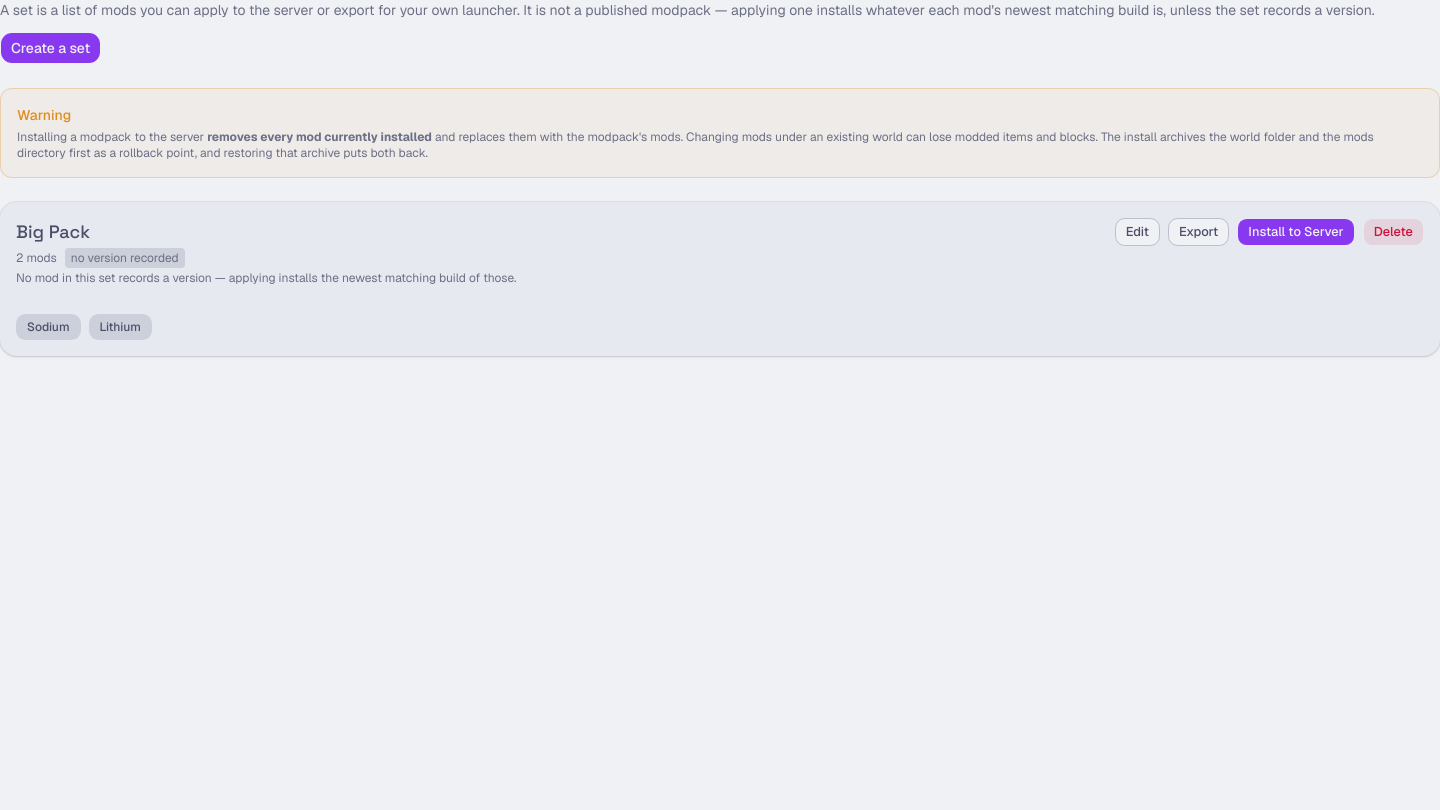
Test case: the report opens for an apply whose only news is the skips › opens on a clean 200 with skips and nothing else
The width and height of the screenshot is (1440, 810).
Expected: the text "Big Pack" is shown, [16,220,90,243]
What coordinates should you click on to do the following:
click the button "Install to Server"
I would click on:
 (1296, 232)
Its box is [1237,218,1355,246].
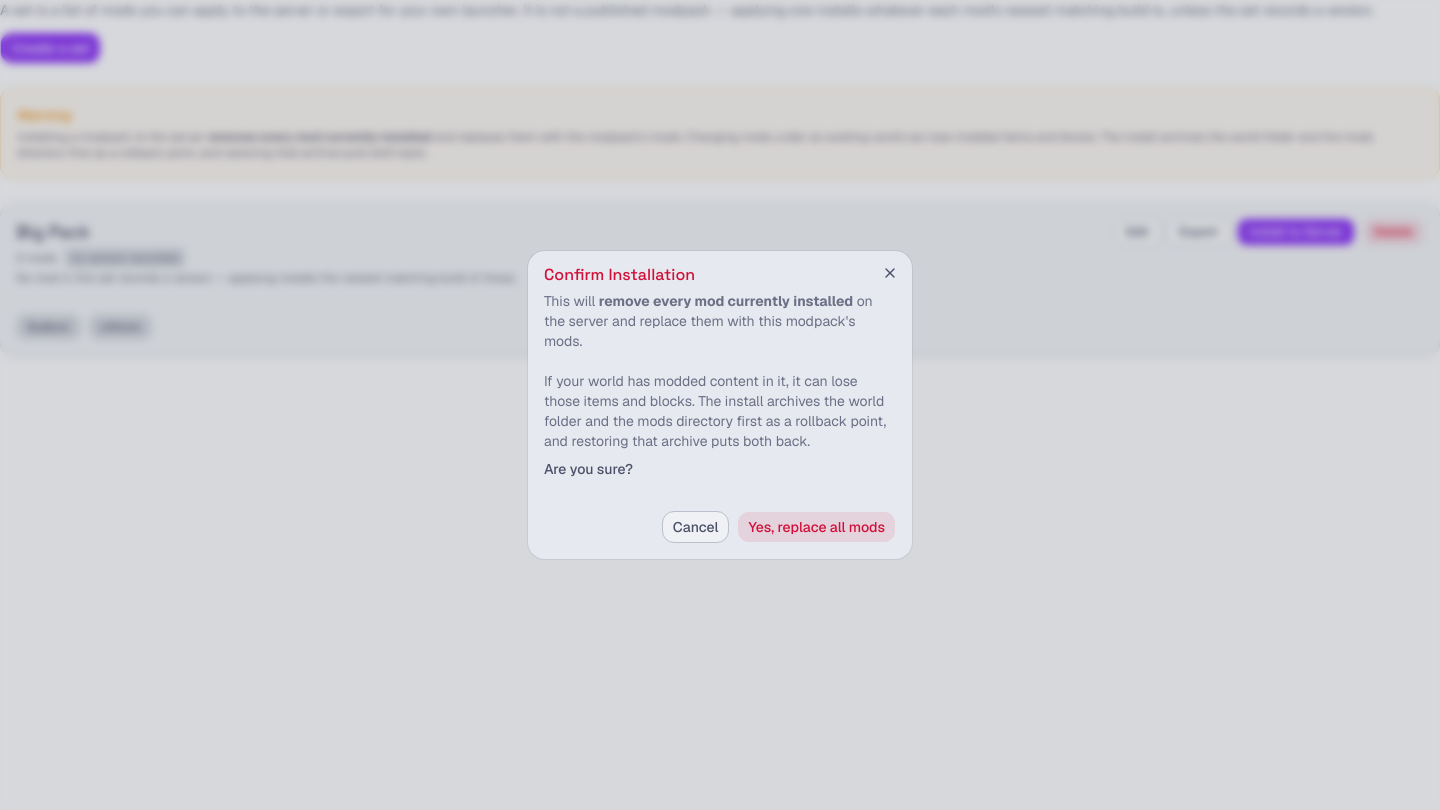
Expected: the heading "Confirm Installation" is shown, [544,264,695,285]
What coordinates should you click on to do the following:
click the button "Yes, replace all mods"
I would click on:
 (817, 527)
Its box is [737,511,896,543].
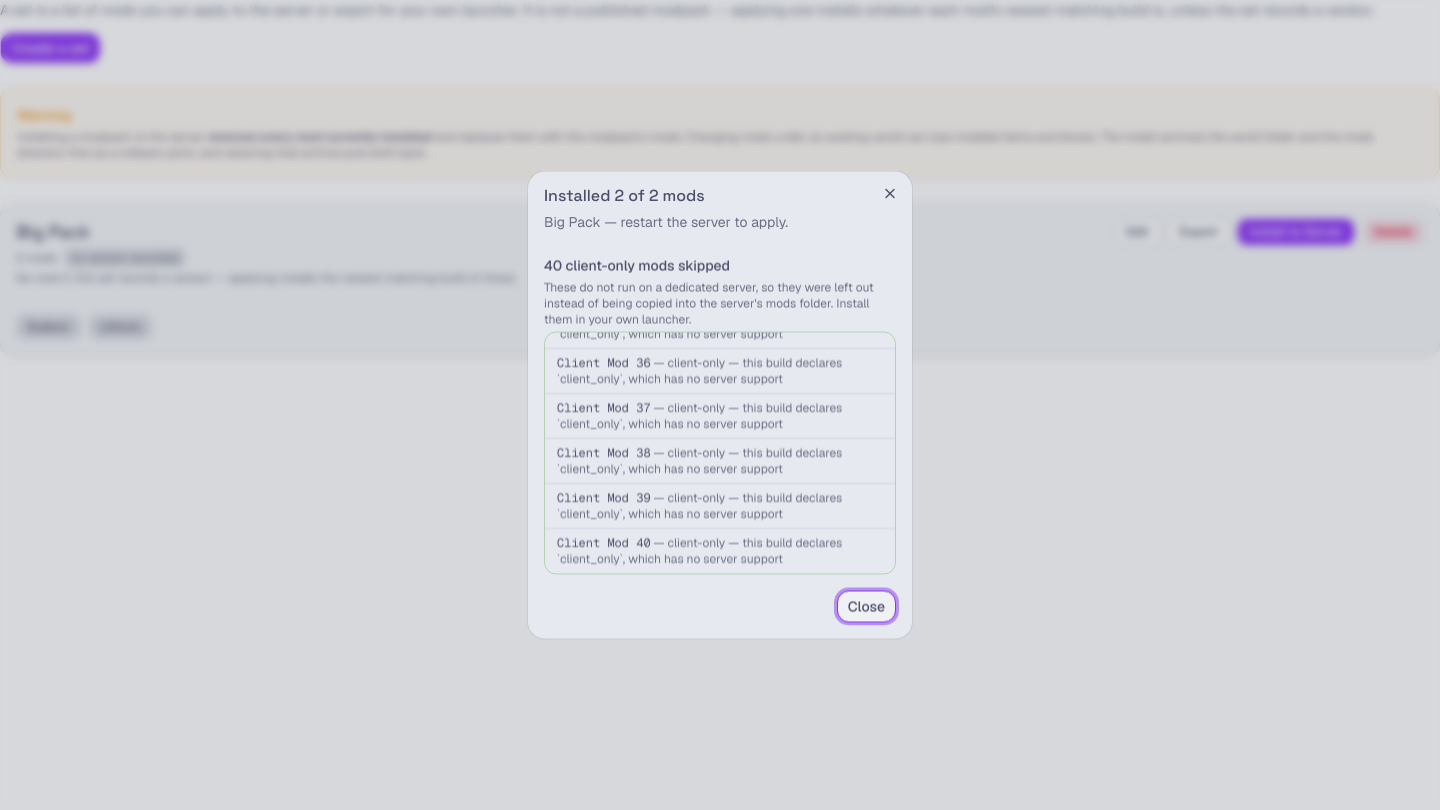
Expected: the heading "Installed 2 of 2 mods" is shown, [544,184,705,206]
Expected: the text "40 client-only mods skipped" is shown, [544,256,730,274]
Expected: the text "Client Mod 40" is shown, [557,536,651,552]
